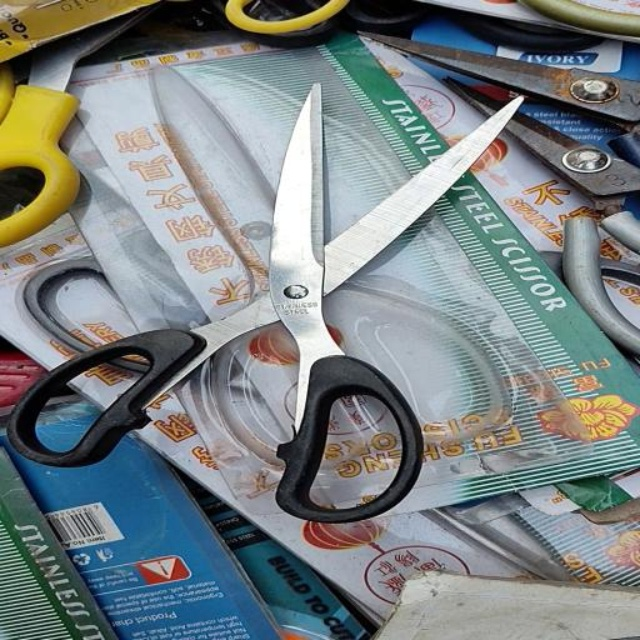scissor: (2, 76, 532, 529)
